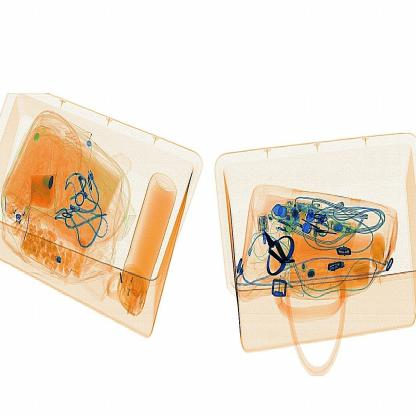gun: (256, 220, 300, 290)
